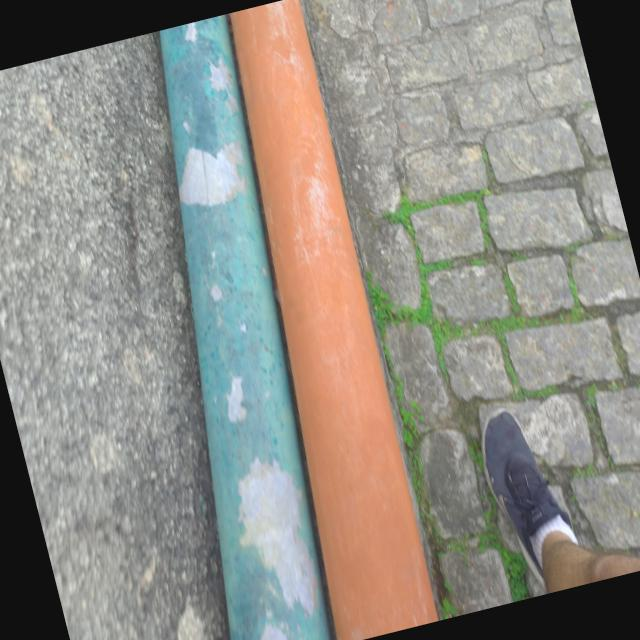gas: (232, 0, 435, 635), (154, 15, 326, 640)
